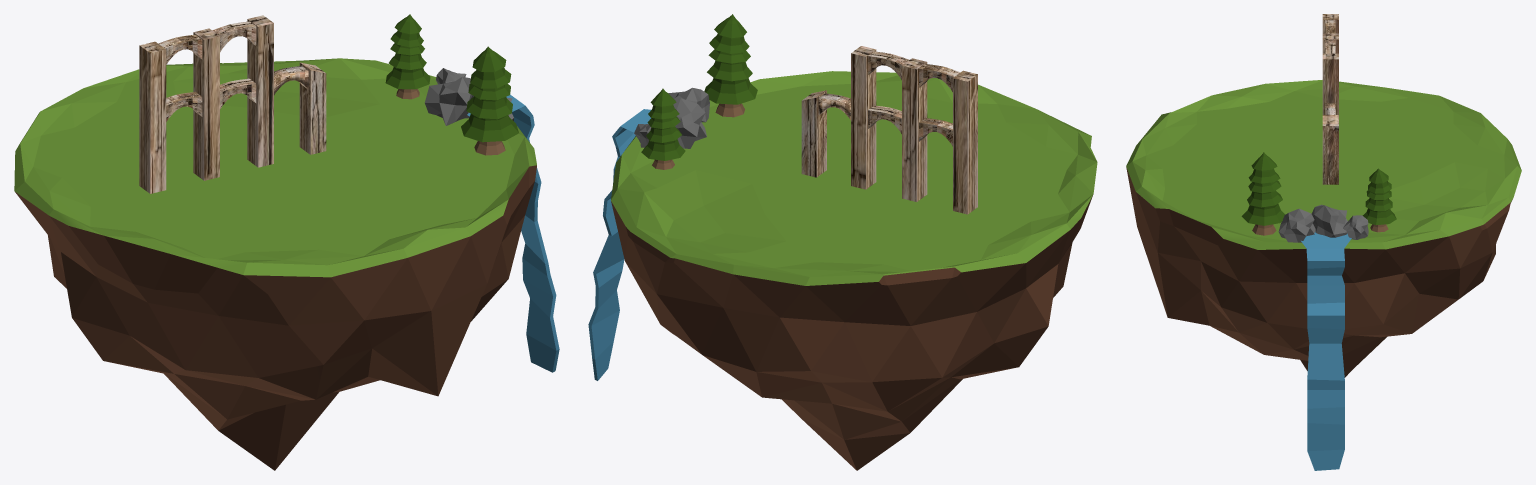
The picture shows the model from 3 angles, left to right: view 1: azimuth 30°, elevation 25°; view 2: azimuth 150°, elevation 25°; view 3: azimuth 270°, elevation 25°; orthographic projection. The views are drawn at different scales.
Parts seen in each view (by area): view 1: Isla, Agua, Columna.002, Arbol, Columna, Columna.001, Arbol.001, Columna.003, Roca 3, Arco.001, Arco.003, Arco.002 (+2 smaller); view 2: Isla, Agua, Arbol, Columna.002, Columna, Columna.001, Arbol.001, Columna.003, Roca 3, Arco.001, Arco.003, Arco.002 (+3 smaller); view 3: Isla, Agua, Arbol, Arbol.001, Columna.003, Roca 2, Roca 3, Columna, Roca 1.
Part boxes in pixels (bbox=[...]): Isla: bbox=[14, 58, 536, 470]; Agua: bbox=[467, 94, 559, 372]; Columna.002: bbox=[139, 41, 166, 193]; Arbol: bbox=[461, 46, 518, 155]; Columna: bbox=[247, 15, 273, 167]; Columna.001: bbox=[193, 28, 219, 180]; Arbol.001: bbox=[385, 14, 430, 99]; Columna.003: bbox=[299, 62, 326, 154]; Roca 3: bbox=[424, 76, 472, 125]; Arco.001: bbox=[212, 21, 256, 52]; Arco.003: bbox=[158, 34, 202, 64]; Arco.002: bbox=[220, 78, 256, 109]; Isla: bbox=[611, 71, 1097, 470]; Agua: bbox=[588, 109, 651, 380]; Arbol: bbox=[704, 14, 757, 117]; Columna.002: bbox=[953, 70, 977, 214]; Columna: bbox=[851, 46, 876, 189]; Columna.001: bbox=[902, 58, 927, 201]; Arbol.001: bbox=[641, 88, 685, 169]; Columna.003: bbox=[801, 90, 826, 177]; Roca 3: bbox=[673, 98, 706, 148]; Arco.001: bbox=[868, 51, 909, 79]; Arco.003: bbox=[919, 64, 960, 92]; Arco.002: bbox=[868, 105, 901, 133]; Isla: bbox=[1126, 80, 1521, 377]; Agua: bbox=[1301, 232, 1351, 470]; Arbol: bbox=[1241, 152, 1285, 235]; Arbol.001: bbox=[1362, 168, 1396, 232]; Columna.003: bbox=[1322, 115, 1338, 184]; Roca 2: bbox=[1278, 208, 1315, 242]; Roca 3: bbox=[1311, 204, 1347, 237]; Columna: bbox=[1322, 53, 1338, 114]; Roca 1: bbox=[1343, 215, 1368, 239].
Bounding box in the file's own units: 23.1 × 19.9 × 21.03.
11 materials, 11 textured.
